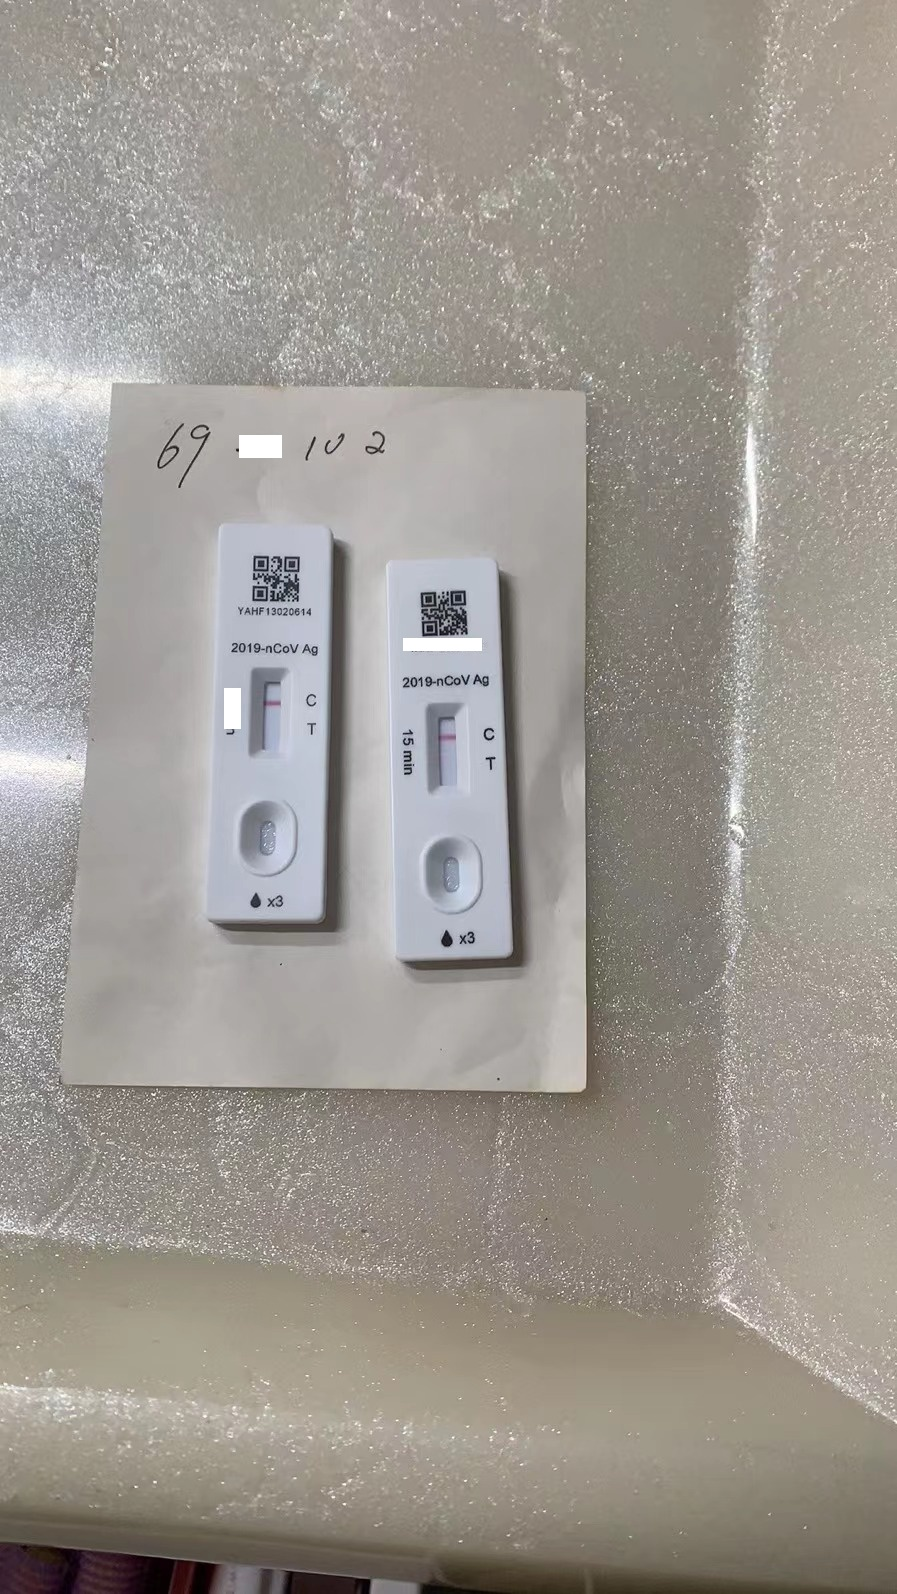negative: (423, 702, 468, 795), (250, 658, 287, 770)
